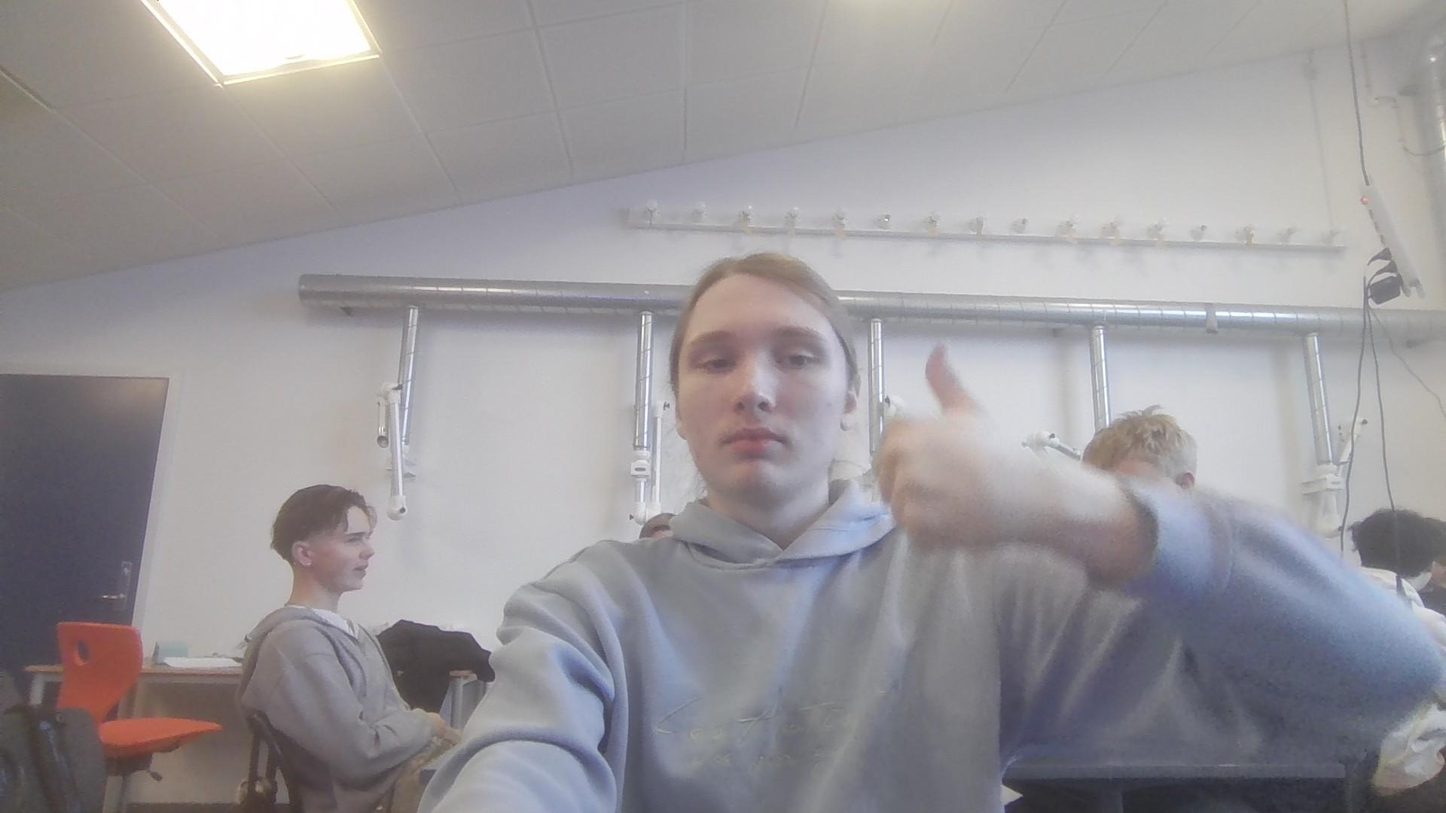thumbs up: (877, 339, 1056, 551)
